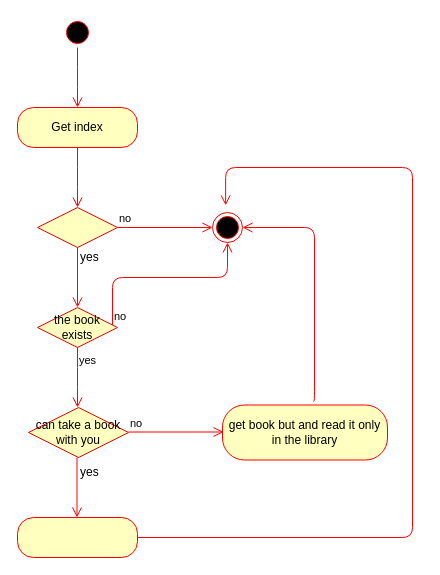
Some shapes in this 440 by 575 pixel diagram are drawn without their labels. The shapes that lost their labels are listed below. From the top down, each one's box as (x1, y1, x2, y2) in pixels, then its label:
(36, 206, 118, 248): verify index
(16, 516, 138, 558): get book
